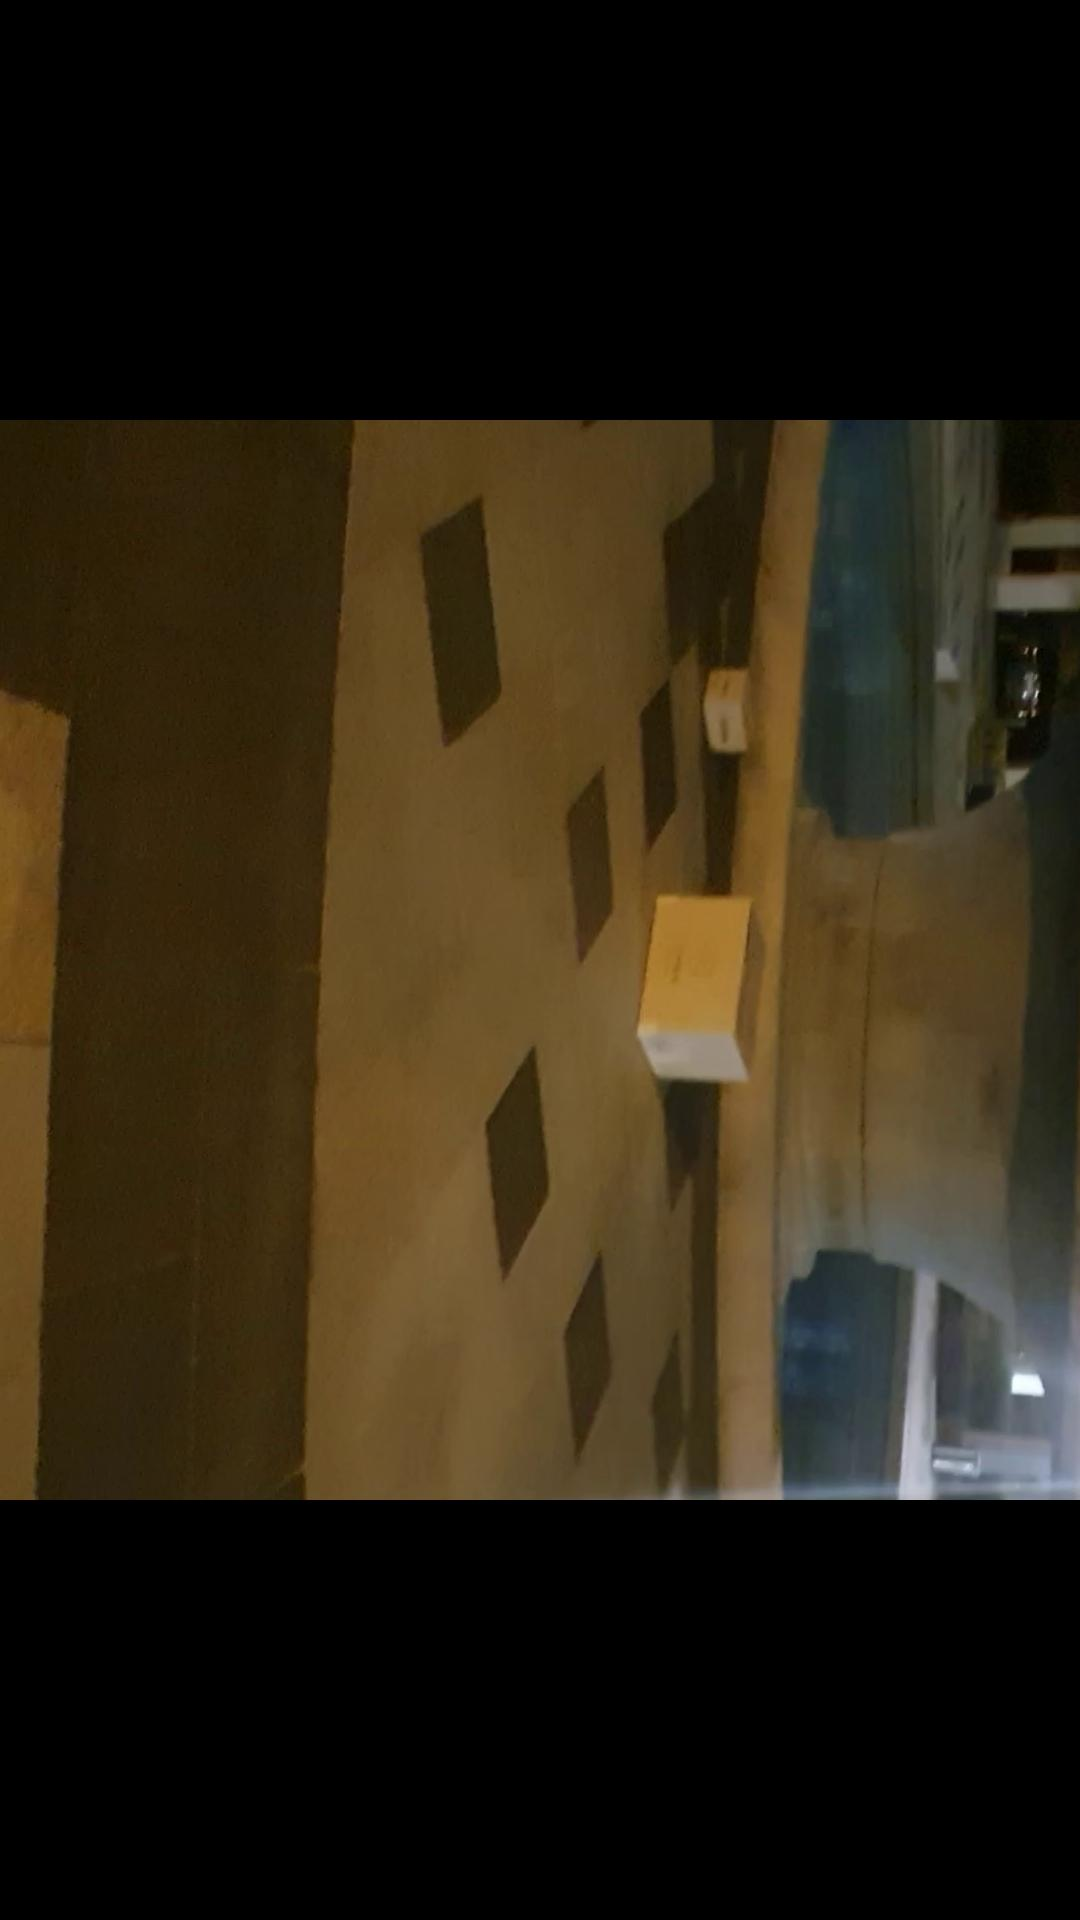Box: (622, 884, 775, 1084), (690, 661, 760, 760)
